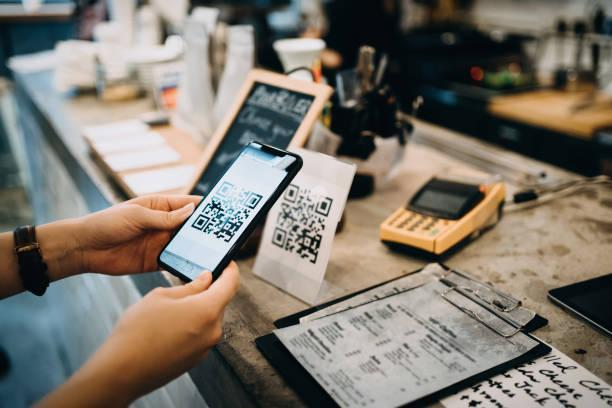Finder pattern: (310, 194, 334, 219), (242, 190, 264, 212), (270, 226, 289, 249), (281, 184, 302, 202), (190, 214, 210, 232), (214, 181, 234, 198)
